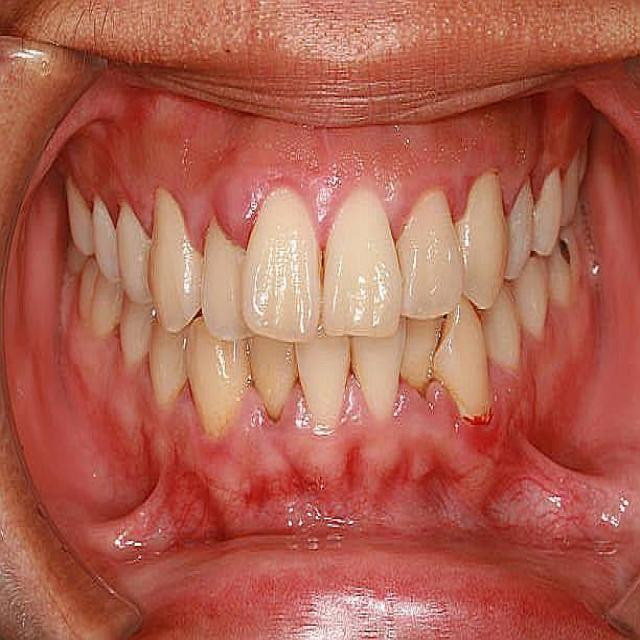caries: (548, 223, 579, 282)
